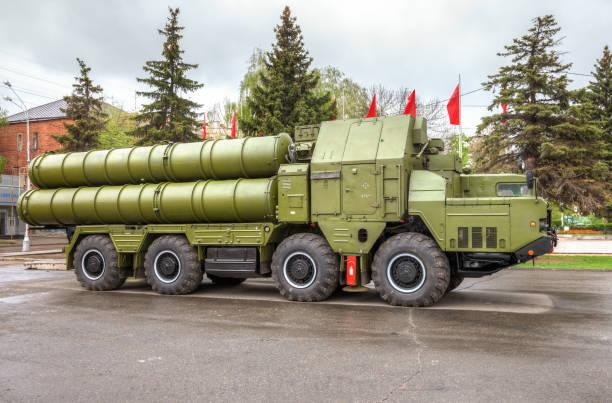MIL_SAM_TEL: (14, 114, 559, 305)
